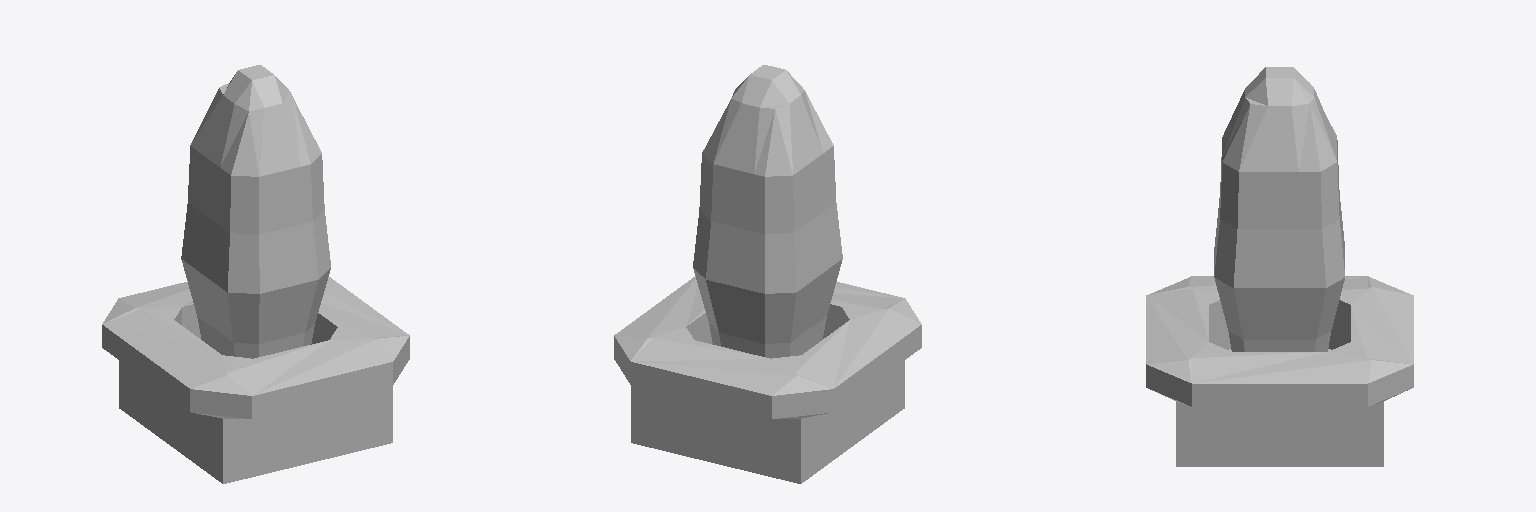
File: спасибо за то что ты русский_спасибо за то что ты рок.obj
3 views of the same model, side by side, from view 1: azimuth 30°, elevation 25°; view 2: azimuth 150°, elevation 25°; view 3: azimuth 270°, elevation 25° (orthographic).
Visible parts, largest first — view 1: Box002; view 2: Box002; view 3: Box002.
Boxes of the visible parts, x1=… form: Box002: x1=102, y1=65, x2=409, y2=483; Box002: x1=614, y1=65, x2=921, y2=483; Box002: x1=1146, y1=67, x2=1413, y2=466.
Bounding box in the file's own units: 24.55 × 39.24 × 25.87.